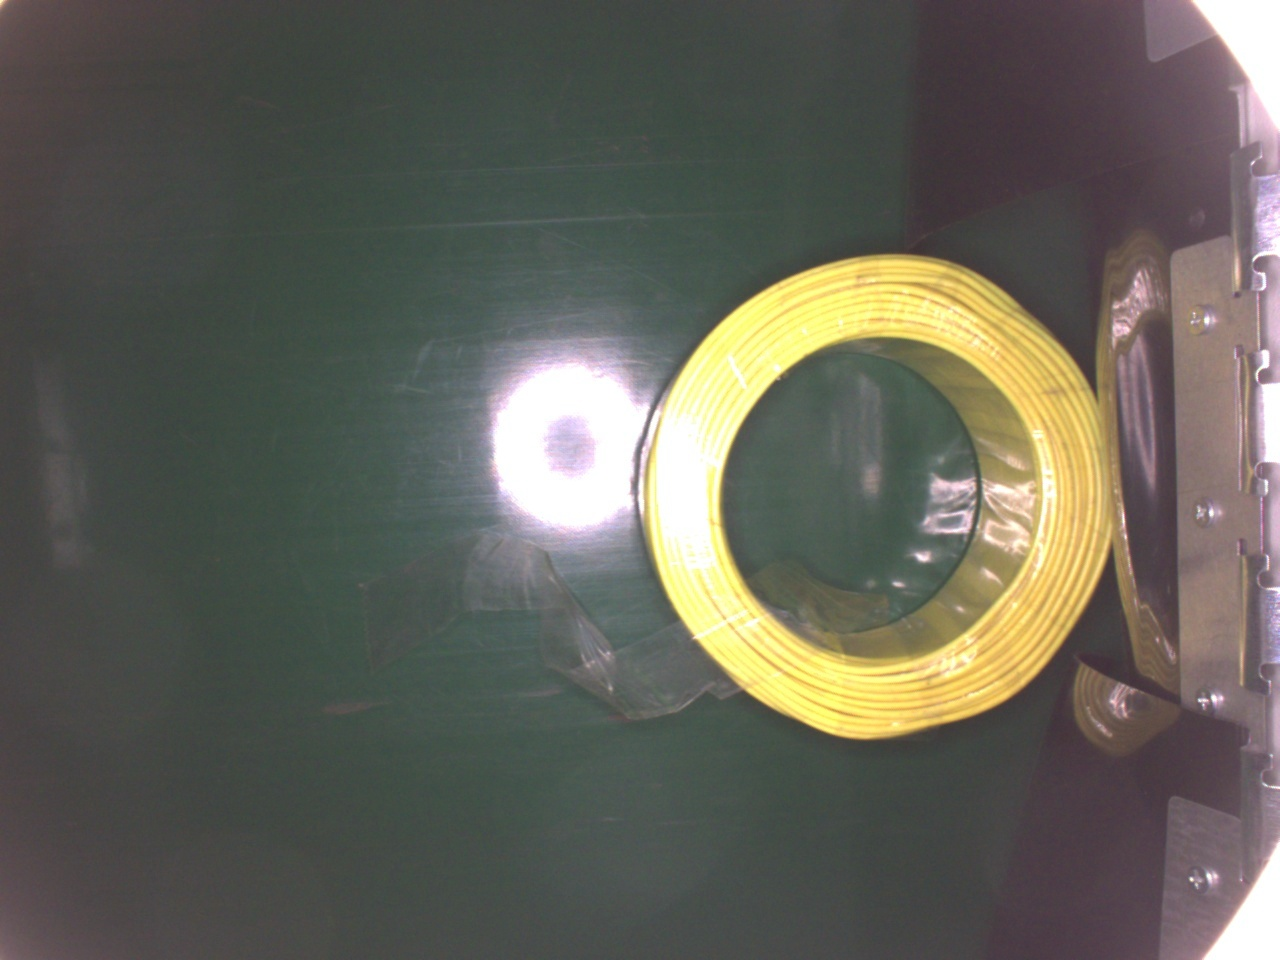yellow: (631, 247, 1124, 741)
